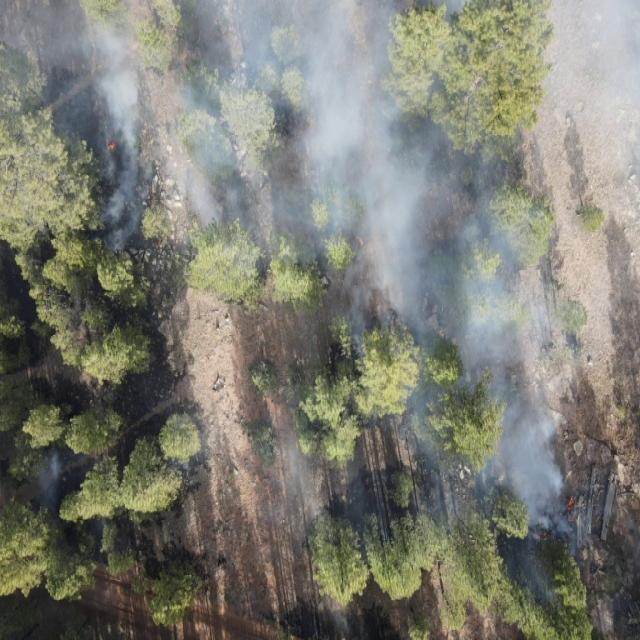fire: (532, 522, 554, 544), (564, 492, 578, 512), (104, 136, 118, 154)
smoke: (0, 0, 640, 260), (264, 260, 609, 640), (168, 403, 227, 467), (26, 448, 70, 508)
